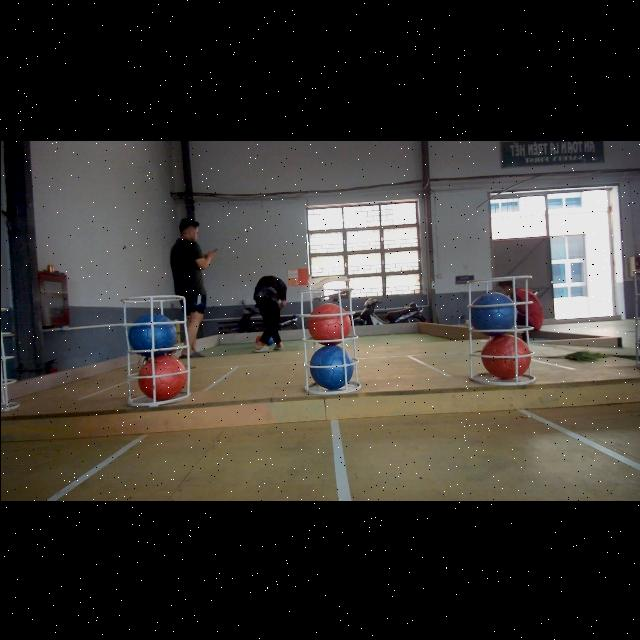B: (128, 311, 176, 355), (308, 344, 352, 388), (468, 291, 518, 329)
R: (479, 334, 531, 381), (138, 355, 184, 401), (307, 301, 351, 344)
